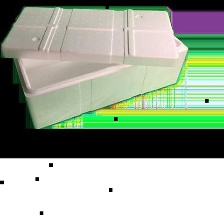foam_box: (0, 0, 191, 132)
